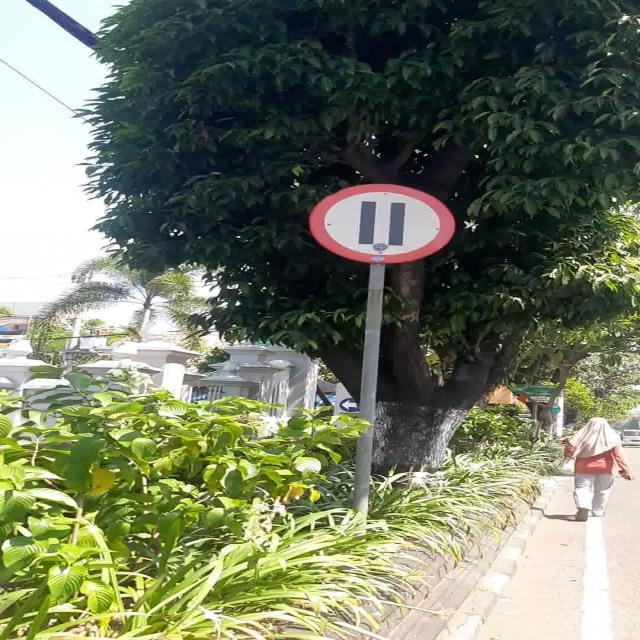Larangan Muatan - 10 ton: (310, 184, 454, 264)
